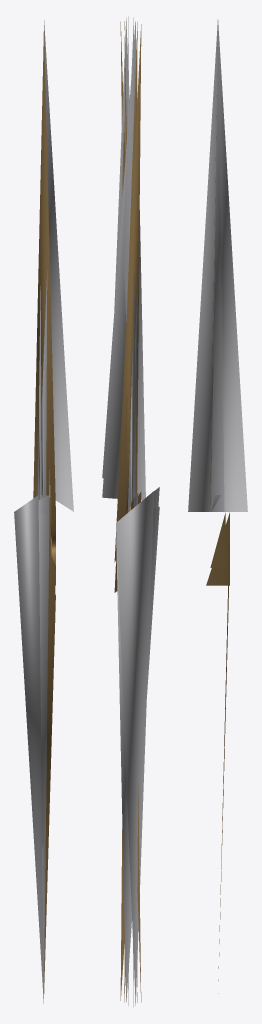
The model's file is equip_weapon_iron_scimitar.glb.
3 renders of one model, left to right at view 1: azimuth 90°, elevation 25°; view 2: azimuth 150°, elevation 25°; view 3: azimuth 270°, elevation 25°, orthographic.
Visible parts, largest first — view 1: equip_weapon_iron_scimitar; view 2: equip_weapon_iron_scimitar; view 3: equip_weapon_iron_scimitar.
Part boxes in pixels (x1,y1,x2,y2): equip_weapon_iron_scimitar: [14, 20, 73, 1003]; equip_weapon_iron_scimitar: [102, 16, 159, 1007]; equip_weapon_iron_scimitar: [188, 20, 247, 993].
Size of the model in its own units: 0.11 by 2 by 0.11.
